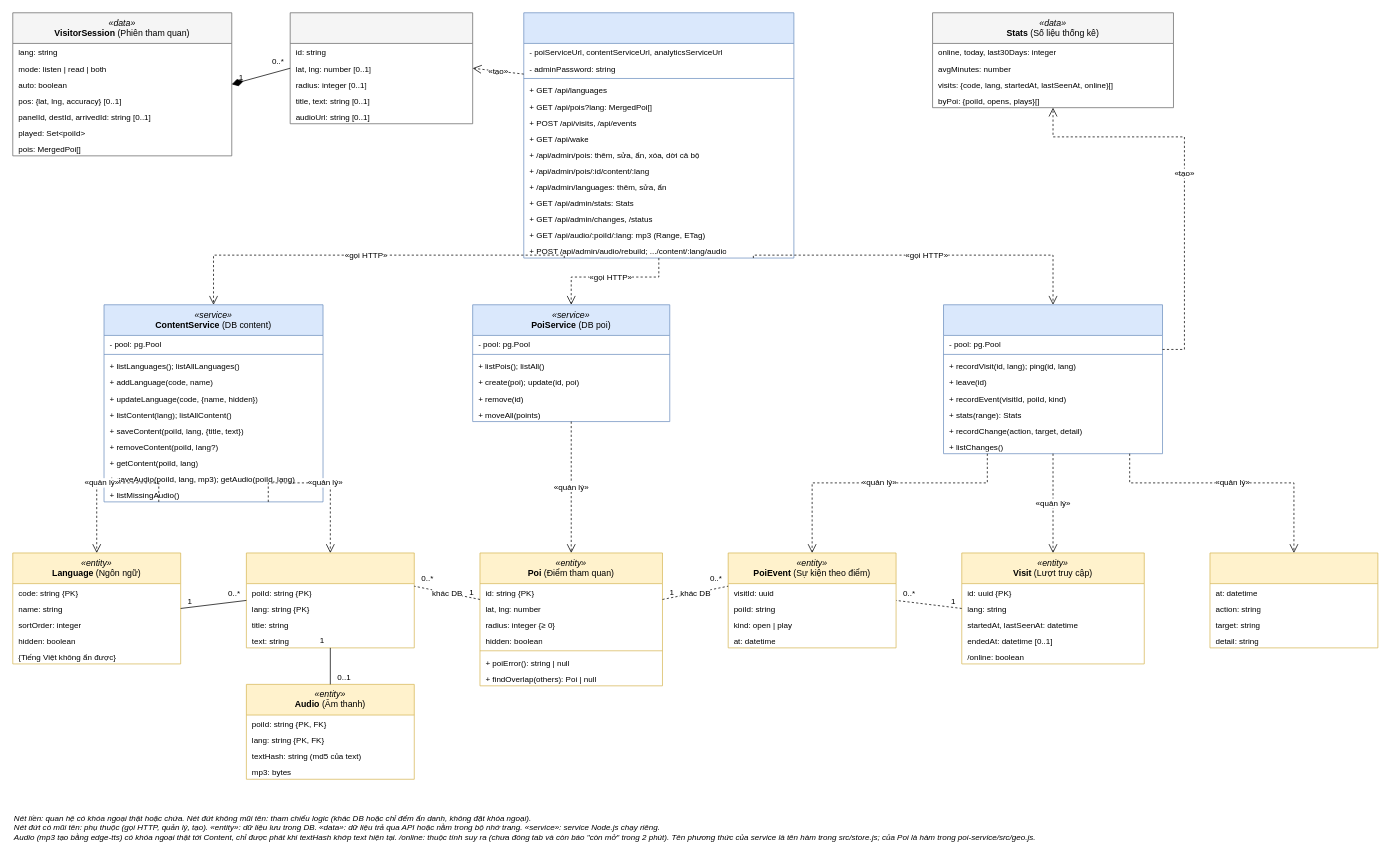
Some shapes in this 1391 by 865 pixel diagram are drawn without their labels. Here are the shapes that lost their labels. From the top down, the box of each, then its label:
(289, 12, 473, 124): «data» MergedPoi (ghép Poi + Content)
(523, 12, 794, 258): «service» Gateway (cửa vào duy nhất, không có DB)
(943, 304, 1163, 454): «service» AnalyticsService (DB analytics)
(246, 552, 414, 648): «entity» Content (Nội dung)
(1209, 552, 1378, 648): «entity» Change (Nhật ký thay đổi)
